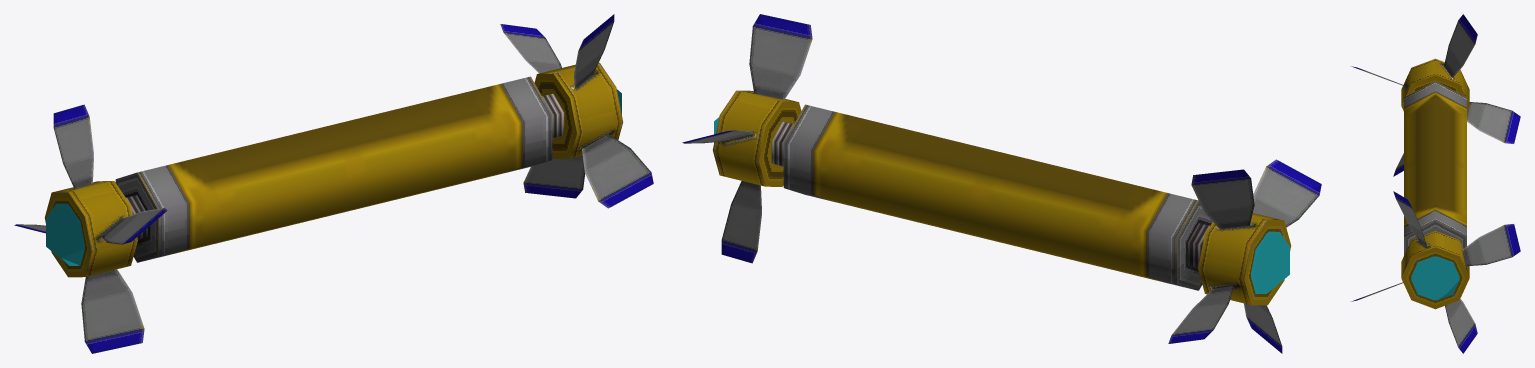
File: mis_obj_springvault_btm_SD.obj
3 views of the same model, side by side, from view 1: azimuth 30°, elevation 25°; view 2: azimuth 150°, elevation 25°; view 3: azimuth 270°, elevation 25° (orthographic). The views are drawn at different scales.
Parts seen in each view (by area): view 1: polygon0, polygon2, polygon4, polygon1, polygon5; view 2: polygon0, polygon4, polygon2, polygon1, polygon5; view 3: polygon0, polygon2, polygon4, polygon1, polygon3.
Part boxes in pixels (<box>): polygon0: <box>126,84,564,254</box>; polygon2: <box>500,14,653,208</box>; polygon4: <box>14,104,167,353</box>; polygon1: <box>115,76,552,262</box>; polygon5: <box>46,203,84,265</box>; polygon0: <box>771,112,1209,282</box>; polygon4: <box>1168,159,1321,353</box>; polygon2: <box>682,14,812,263</box>; polygon1: <box>783,104,1212,290</box>; polygon5: <box>1251,231,1289,293</box>; polygon0: <box>1404,92,1466,226</box>; polygon2: <box>1351,191,1520,353</box>; polygon4: <box>1351,14,1520,176</box>; polygon1: <box>1404,81,1466,255</box>; polygon3: <box>1411,256,1459,300</box>.
Bounding box in the file's own units: 21.16 × 7.46 × 7.46.
Materials: 3 (3 with a texture image).
